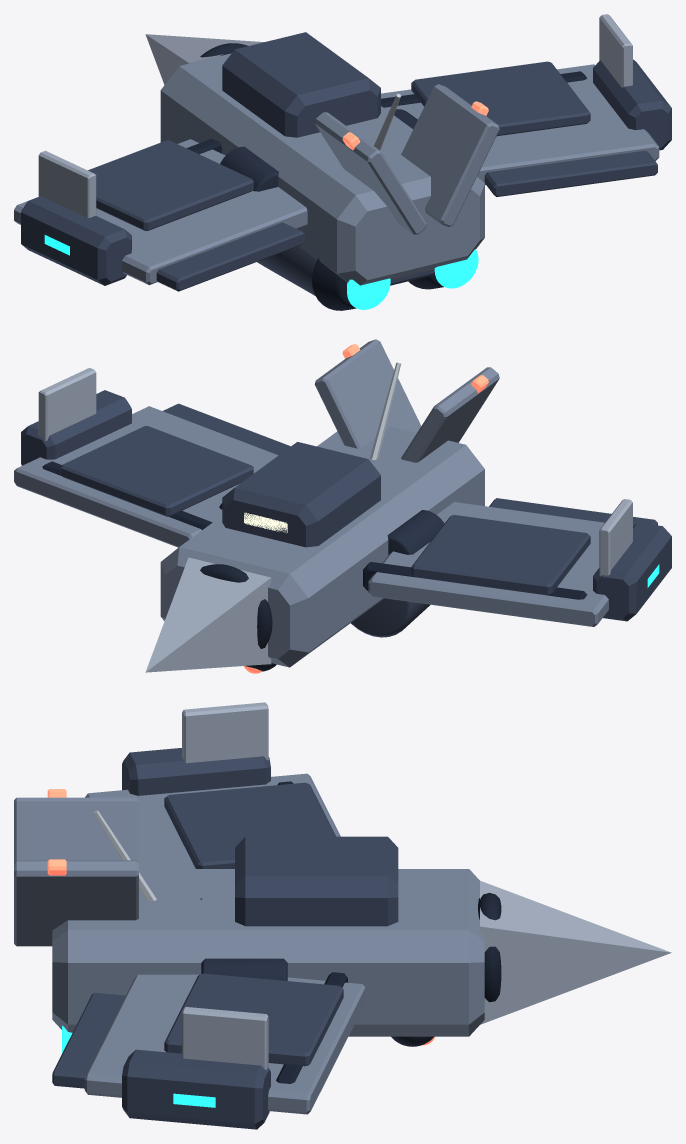
File: enemy_skiff.glb
The picture shows the model from 3 angles, top to bottom: view 1: azimuth 30°, elevation 25°; view 2: azimuth 150°, elevation 25°; view 3: azimuth 270°, elevation 25°; orthographic projection. The views are drawn at different scales.
Visible parts, largest first — view 1: skiff_hull, skiff_canopy_frame, skiff_wing_plate_l_back, skiff_wing_panel_l, skiff_tail_fin_r, skiff_wing_panel_r, skiff_wing_plate_r_back, skiff_wing_tip_l, skiff_aileron_r, skiff_aileron_l, skiff_tail_fin_l, skiff_wing_tip_r (+9 smaller); view 2: skiff_hull, skiff_canopy_frame, skiff_wing_panel_l, skiff_wing_plate_r_back, skiff_wing_plate_l_back, skiff_nose, skiff_wing_panel_r, skiff_tail_fin_r, skiff_wing_tip_l, skiff_wing_tip_r, skiff_tail_fin_l, skiff_wing_fin_r (+10 smaller); view 3: skiff_hull, skiff_canopy_frame, skiff_nose, skiff_wing_panel_r, skiff_wing_tip_r, skiff_wing_plate_l_back, skiff_tail_fin_r, skiff_wing_plate_r_back, skiff_tail_fin_l, skiff_wing_tip_l, skiff_wing_fin_l, skiff_wing_fin_r (+6 smaller).
Part boxes in pixels (x1,y1,x2,y2): skiff_hull: (160,53,484,285); skiff_canopy_frame: (222,32,380,137); skiff_wing_plate_l_back: (88,140,253,230); skiff_wing_panel_l: (14,139,307,285); skiff_tail_fin_r: (401,84,499,226); skiff_wing_panel_r: (381,64,659,184); skiff_wing_plate_r_back: (411,61,590,136); skiff_wing_tip_l: (21,196,131,285); skiff_aileron_r: (484,150,657,196); skiff_aileron_l: (156,222,304,291); skiff_tail_fin_l: (314,112,426,234); skiff_wing_tip_r: (593,59,671,150); skiff_hull: (160,426,484,667); skiff_canopy_frame: (222,442,380,547); skiff_wing_panel_l: (368,502,608,626); skiff_wing_plate_r_back: (60,426,253,516); skiff_wing_plate_l_back: (411,515,590,595); skiff_nose: (145,557,271,672); skiff_wing_panel_r: (14,406,278,547); skiff_tail_fin_r: (314,339,421,448); skiff_wing_tip_l: (593,522,671,621); skiff_wing_tip_r: (21,390,131,465); skiff_tail_fin_l: (401,367,499,462); skiff_wing_fin_r: (38,368,96,441); skiff_hull: (52,869,484,1036); skiff_canopy_frame: (235,836,398,926); skiff_nose: (480,880,671,1024); skiff_wing_panel_r: (84,974,365,1114); skiff_wing_tip_r: (122,1049,270,1129); skiff_wing_plate_l_back: (164,782,335,868); skiff_tail_fin_r: (14,860,138,946); skiff_wing_plate_r_back: (164,973,343,1066); skiff_tail_fin_l: (14,797,138,862); skiff_wing_tip_l: (122,748,270,795); skiff_wing_fin_l: (182,702,268,763); skiff_wing_fin_r: (182,1007,268,1069).
Size of the model in its own units: 1.68 by 0.5569 by 1.37.
